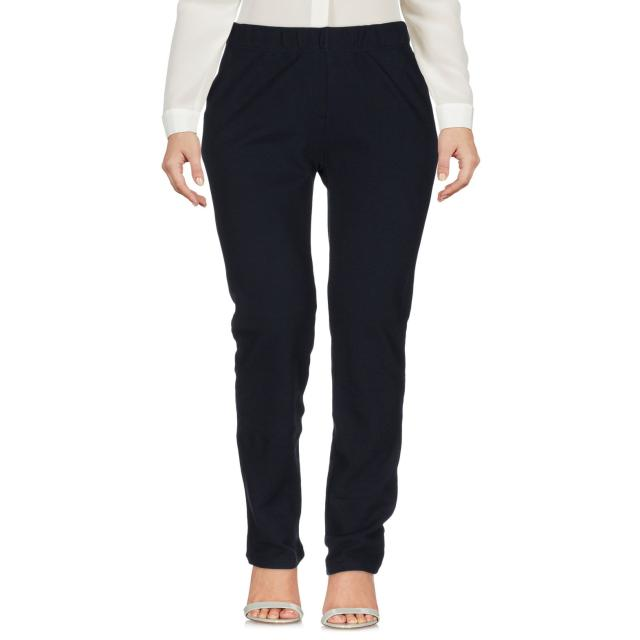long-pants: (200, 21, 441, 576)
